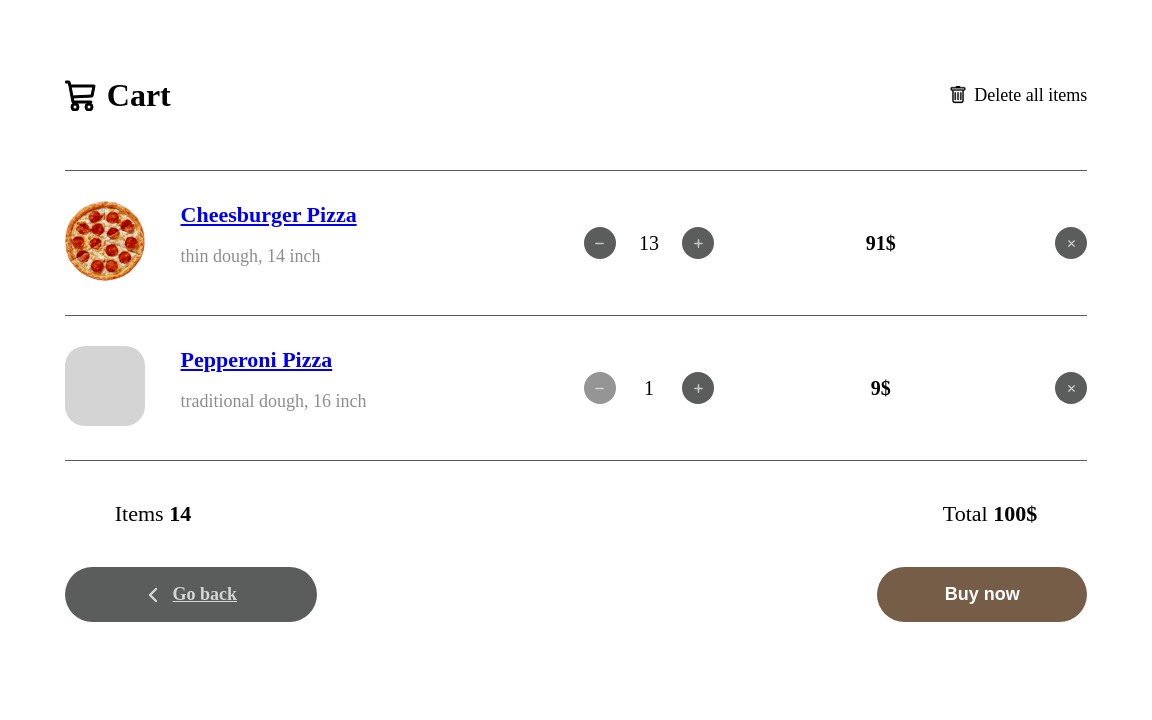
Scenario: CartItem tests › CartItem button tests › should remove an item
Click the button named "minus" next to "13": (600, 243) x1=584 y1=227 x2=616 y2=259
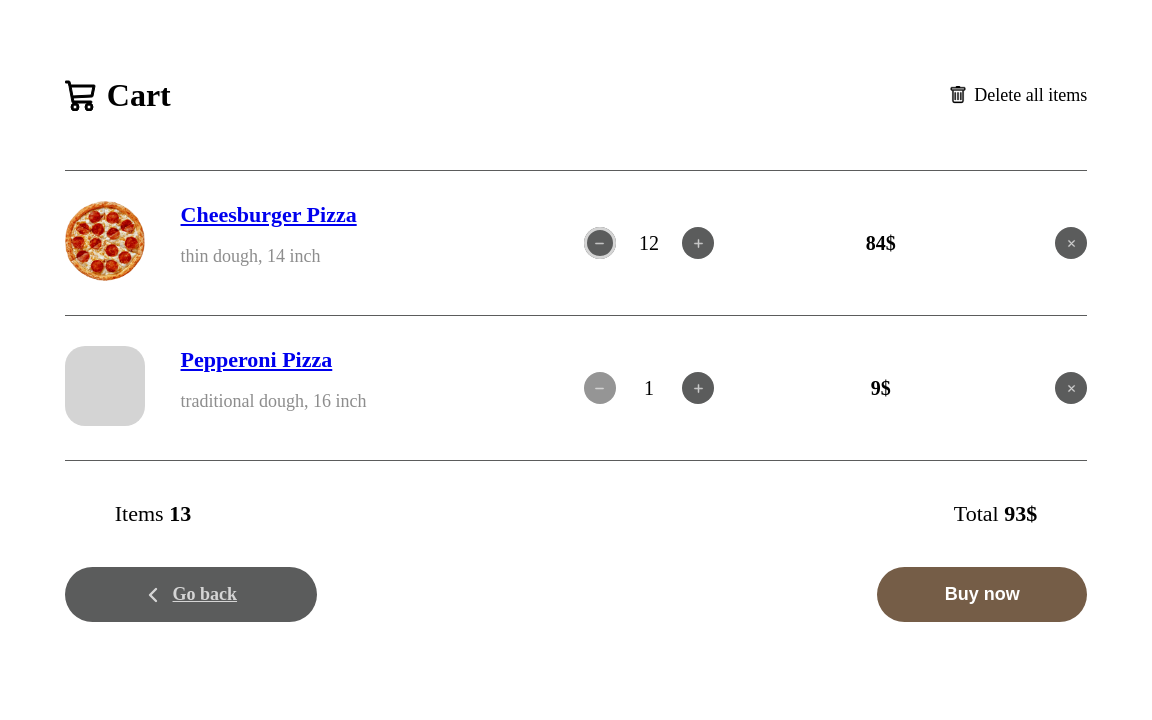
Click the button named "minus" next to "12": (600, 243) x1=584 y1=227 x2=616 y2=259
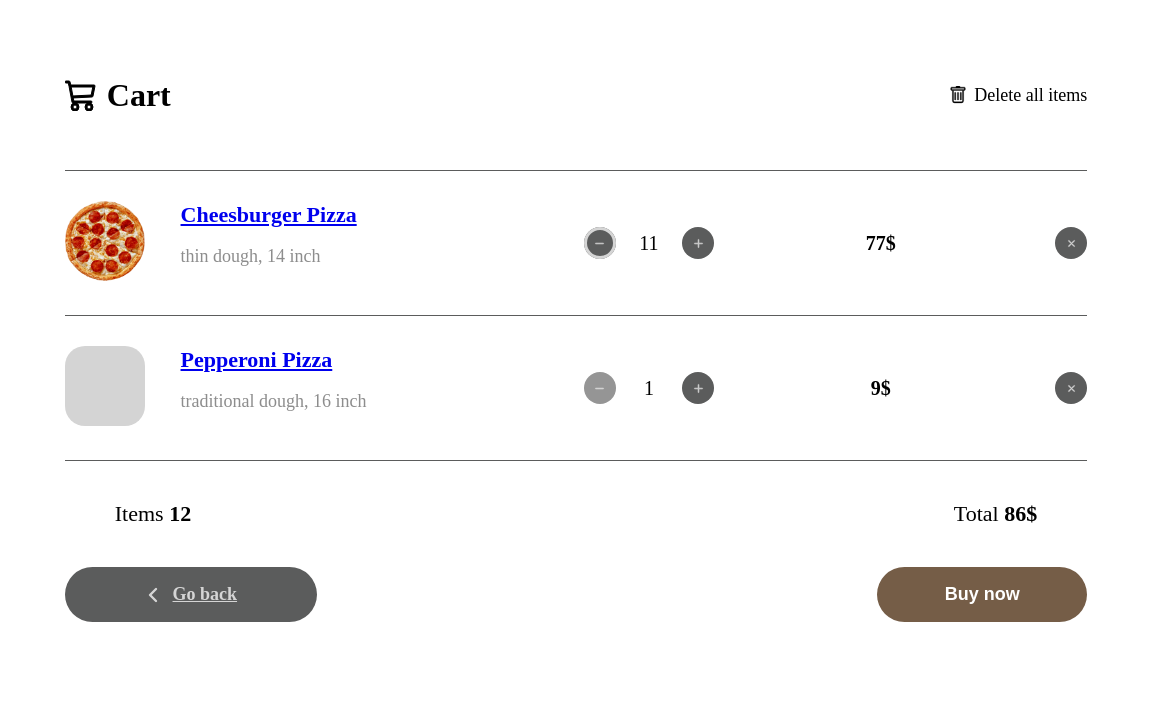
Result: the text "13" reads "11" at x1=639 y1=232 x2=659 y2=254
Result: the heading "91" shows "77" at x1=866 y1=232 x2=886 y2=254
